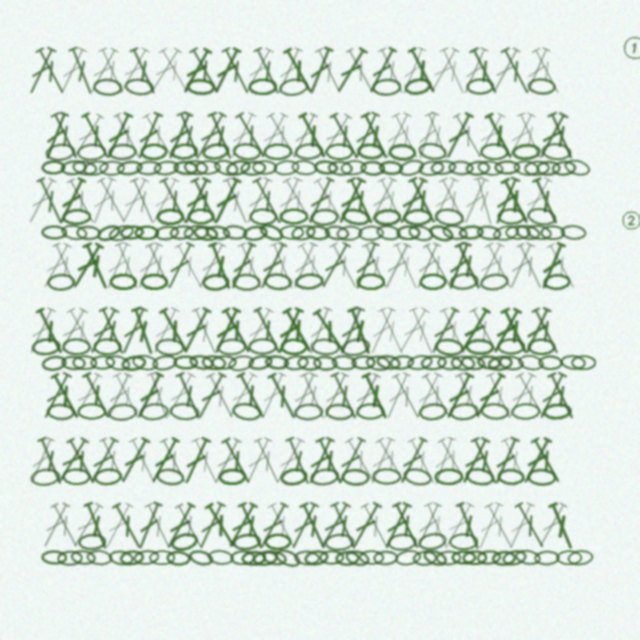chain: (169, 530, 200, 553), (273, 546, 302, 570), (340, 206, 371, 228), (340, 336, 371, 358), (402, 466, 433, 488), (417, 141, 448, 162), (526, 206, 557, 227), (231, 401, 262, 422), (464, 466, 495, 487), (417, 531, 448, 552), (257, 221, 285, 244), (107, 222, 136, 244), (403, 76, 433, 97), (201, 141, 231, 162), (279, 466, 309, 487), (278, 77, 309, 97), (45, 142, 76, 162), (479, 272, 510, 292), (30, 467, 61, 487), (309, 467, 340, 487), (95, 222, 123, 244), (427, 222, 455, 244), (421, 547, 449, 569), (397, 157, 426, 178), (124, 77, 154, 97), (434, 207, 464, 227), (434, 337, 464, 357), (155, 467, 185, 487), (232, 532, 262, 552), (541, 142, 572, 161), (169, 402, 200, 421), (212, 157, 240, 178), (224, 157, 252, 178), (563, 157, 591, 178), (232, 142, 262, 161), (294, 142, 324, 161), (263, 272, 293, 291), (294, 272, 324, 291), (449, 272, 479, 291), (31, 337, 61, 356), (139, 402, 169, 421), (418, 402, 448, 421), (449, 402, 479, 421), (480, 402, 510, 421), (542, 402, 572, 421), (93, 467, 123, 486), (82, 158, 110, 178), (492, 223, 520, 243), (227, 353, 255, 373), (187, 548, 215, 568), (107, 403, 138, 421), (324, 533, 355, 551), (527, 77, 556, 96), (170, 142, 199, 161), (356, 142, 385, 161), (511, 143, 541, 161), (407, 223, 434, 243), (310, 338, 340, 356), (104, 353, 131, 373), (387, 533, 417, 551), (261, 548, 288, 568), (344, 548, 371, 568), (60, 223, 88, 242), (441, 223, 469, 242), (525, 223, 553, 242), (131, 353, 159, 372), (406, 353, 434, 372), (517, 353, 545, 372), (394, 548, 422, 567), (514, 548, 542, 567), (93, 78, 122, 96), (186, 78, 215, 96), (372, 78, 401, 96), (77, 143, 106, 161), (108, 143, 137, 161), (62, 208, 91, 226), (310, 208, 339, 226), (403, 208, 432, 226), (232, 273, 261, 291), (155, 338, 184, 356), (217, 338, 246, 356), (465, 338, 494, 356), (46, 403, 75, 421), (294, 403, 323, 421), (325, 403, 354, 421), (341, 468, 370, 486), (527, 468, 556, 486), (290, 223, 317, 242), (375, 223, 402, 242), (514, 223, 541, 242), (151, 353, 178, 372), (188, 353, 215, 372), (247, 353, 274, 372), (375, 353, 402, 372), (303, 548, 330, 567), (501, 548, 528, 567), (388, 143, 416, 161), (373, 208, 401, 226), (47, 273, 75, 291), (202, 273, 230, 291), (543, 273, 571, 291), (497, 468, 525, 486), (78, 533, 106, 551), (248, 78, 277, 95), (263, 143, 292, 160), (325, 143, 354, 160), (480, 143, 509, 160), (279, 208, 308, 225), (356, 273, 385, 290), (62, 338, 91, 355), (93, 338, 122, 355), (248, 338, 277, 355), (527, 338, 556, 355), (77, 403, 106, 420), (356, 403, 385, 420), (511, 403, 540, 420), (62, 468, 91, 485), (372, 468, 401, 485), (434, 468, 463, 485), (449, 533, 478, 550), (71, 159, 98, 177), (116, 159, 143, 177), (153, 159, 180, 177), (418, 159, 445, 177), (477, 159, 504, 177), (513, 159, 540, 177), (192, 224, 219, 242), (120, 354, 147, 372), (466, 78, 494, 95), (140, 143, 168, 160), (156, 208, 184, 225), (187, 208, 215, 225), (249, 208, 277, 225), (497, 208, 525, 225), (109, 273, 137, 290), (140, 273, 168, 290), (419, 273, 447, 290), (280, 338, 308, 355), (497, 338, 525, 355), (218, 468, 246, 485), (264, 533, 292, 550), (154, 224, 180, 242), (205, 224, 231, 242), (242, 224, 268, 242), (324, 224, 350, 242), (476, 224, 502, 242), (41, 354, 67, 372), (365, 354, 391, 372), (460, 354, 486, 372), (487, 354, 513, 372), (498, 354, 524, 372), (108, 549, 134, 567), (252, 549, 278, 567), (60, 159, 87, 176), (273, 159, 300, 176), (291, 159, 318, 176), (340, 159, 367, 176), (430, 159, 457, 176), (560, 224, 587, 241), (420, 354, 447, 371), (86, 549, 113, 566), (133, 549, 160, 566), (207, 549, 234, 566), (567, 549, 594, 566), (183, 159, 209, 176), (313, 159, 339, 176), (119, 224, 145, 241), (169, 224, 195, 241), (183, 224, 209, 241), (222, 224, 248, 241), (305, 224, 331, 241), (458, 224, 484, 241), (201, 354, 227, 371), (264, 354, 290, 371), (283, 354, 309, 371), (331, 354, 357, 371), (389, 354, 415, 371), (476, 354, 502, 371), (560, 354, 586, 371), (70, 549, 96, 566), (119, 549, 145, 566), (476, 549, 502, 566), (336, 225, 363, 241), (99, 160, 125, 176), (136, 160, 162, 176), (240, 160, 266, 176), (327, 160, 353, 176), (378, 160, 404, 176), (448, 160, 474, 176), (465, 160, 491, 176), (524, 160, 550, 176), (551, 160, 577, 176), (358, 225, 384, 241), (450, 355, 476, 371), (57, 550, 83, 566), (294, 550, 320, 566), (412, 550, 438, 566), (491, 550, 517, 566), (534, 550, 560, 566), (173, 160, 198, 176), (360, 160, 385, 176), (536, 160, 561, 176), (76, 225, 101, 241), (61, 355, 86, 371), (297, 355, 322, 371), (313, 355, 338, 371), (437, 355, 462, 371), (166, 550, 191, 566), (241, 550, 266, 566), (335, 550, 360, 566), (373, 550, 398, 566), (436, 550, 461, 566), (195, 160, 221, 175), (494, 160, 520, 175), (41, 225, 67, 240), (505, 225, 531, 240), (211, 355, 237, 370), (41, 550, 67, 565), (149, 550, 175, 565), (556, 550, 582, 565), (41, 160, 66, 175), (252, 160, 277, 175), (134, 225, 159, 240), (279, 225, 304, 240), (396, 225, 421, 240), (540, 225, 565, 240), (72, 355, 97, 370), (90, 355, 115, 370), (173, 355, 198, 370), (351, 355, 376, 370), (538, 355, 563, 370), (571, 355, 596, 370), (230, 550, 255, 565), (319, 550, 344, 565), (359, 550, 384, 565), (451, 550, 476, 565), (462, 550, 487, 565)
double: (145, 45, 185, 96), (155, 45, 195, 96), (331, 45, 371, 96), (139, 110, 179, 161), (310, 175, 350, 226), (67, 240, 107, 291), (393, 305, 433, 356), (52, 435, 92, 486), (341, 435, 381, 486), (201, 500, 241, 551), (67, 111, 107, 161), (315, 111, 355, 161), (310, 306, 350, 356), (114, 45, 153, 96), (186, 45, 225, 96), (424, 45, 463, 96), (191, 110, 230, 161), (232, 110, 271, 161), (263, 110, 302, 161), (449, 110, 488, 161), (93, 175, 132, 226), (279, 175, 318, 226), (517, 175, 556, 226), (294, 240, 333, 291), (315, 240, 354, 291), (279, 305, 318, 356), (455, 305, 494, 356), (160, 370, 199, 421), (222, 370, 261, 421), (418, 370, 457, 421), (470, 370, 509, 421), (372, 435, 411, 486), (434, 435, 473, 486), (527, 435, 566, 486), (67, 500, 106, 551), (222, 500, 261, 551), (315, 500, 354, 551), (346, 500, 385, 551), (439, 500, 478, 551), (511, 500, 550, 551), (532, 500, 571, 551), (32, 45, 70, 97), (84, 45, 122, 97), (177, 45, 215, 97), (239, 45, 277, 97), (497, 45, 535, 97), (528, 45, 566, 97), (254, 110, 292, 162), (326, 110, 364, 162), (471, 110, 509, 162), (533, 110, 571, 162), (22, 175, 60, 227), (63, 175, 101, 227), (115, 175, 153, 227), (156, 175, 194, 227), (249, 175, 287, 227), (497, 175, 535, 227), (37, 240, 75, 292), (171, 240, 209, 292), (543, 240, 581, 292), (53, 305, 91, 357), (63, 305, 101, 357), (84, 305, 122, 357), (177, 305, 215, 357), (239, 305, 277, 357), (425, 305, 463, 357), (487, 305, 525, 357), (37, 370, 75, 422), (47, 370, 85, 422), (68, 370, 106, 422), (192, 370, 230, 422), (202, 370, 240, 422), (264, 370, 302, 422), (388, 370, 426, 422), (502, 370, 540, 422), (63, 435, 101, 487), (84, 435, 122, 487), (218, 435, 256, 487), (270, 435, 308, 487), (99, 500, 137, 552), (109, 500, 147, 552), (161, 500, 199, 552), (171, 500, 209, 552), (254, 500, 292, 552), (264, 500, 302, 552), (357, 500, 395, 552), (481, 500, 519, 552), (280, 45, 318, 96), (342, 45, 380, 96), (419, 240, 457, 291), (156, 305, 194, 356), (218, 305, 256, 356), (512, 370, 550, 421), (115, 435, 153, 486), (208, 45, 245, 97), (218, 45, 255, 97), (311, 45, 348, 97), (466, 45, 503, 97), (47, 110, 84, 162), (357, 110, 394, 162), (388, 110, 425, 162), (440, 110, 477, 162), (481, 110, 518, 162), (502, 110, 539, 162), (53, 175, 90, 227), (146, 175, 183, 227), (187, 175, 224, 227), (208, 175, 245, 227), (332, 175, 369, 227), (394, 175, 431, 227), (435, 175, 472, 227), (161, 240, 198, 292), (254, 240, 291, 292), (378, 240, 415, 292), (471, 240, 508, 292), (481, 240, 518, 292), (32, 305, 69, 357), (497, 305, 534, 357), (528, 305, 565, 357), (109, 370, 146, 422), (347, 370, 384, 422), (409, 370, 446, 422), (440, 370, 477, 422), (533, 370, 570, 422), (125, 435, 162, 487), (156, 435, 193, 487), (208, 435, 245, 487), (332, 435, 369, 487), (394, 435, 431, 487), (404, 435, 441, 487), (456, 435, 493, 487), (497, 435, 534, 487), (285, 500, 322, 552), (378, 500, 415, 552), (363, 45, 400, 96), (404, 45, 441, 96), (487, 45, 524, 96), (78, 110, 115, 161), (295, 110, 332, 161), (192, 240, 229, 291), (326, 240, 363, 291), (466, 305, 503, 356), (233, 370, 270, 421), (146, 435, 183, 486), (518, 435, 555, 486), (37, 500, 74, 551), (47, 500, 84, 551), (23, 45, 59, 97), (54, 45, 90, 97), (126, 45, 162, 97), (250, 45, 286, 97), (374, 45, 410, 97), (100, 110, 136, 162), (224, 110, 260, 162), (379, 110, 415, 162), (33, 175, 69, 227), (178, 175, 214, 227), (240, 175, 276, 227), (302, 175, 338, 227), (343, 175, 379, 227), (374, 175, 410, 227), (426, 175, 462, 227), (141, 240, 177, 292), (358, 240, 394, 292), (451, 240, 487, 292), (23, 305, 59, 357), (147, 305, 183, 357), (271, 305, 307, 357), (364, 305, 400, 357), (374, 305, 410, 357), (436, 305, 472, 357), (519, 305, 555, 357), (100, 370, 136, 422), (317, 370, 353, 422), (327, 370, 363, 422), (358, 370, 394, 422), (451, 370, 487, 422), (482, 370, 518, 422), (544, 370, 580, 422), (178, 435, 214, 487), (188, 435, 224, 487), (240, 435, 276, 487), (250, 435, 286, 487), (302, 435, 338, 487), (312, 435, 348, 487), (467, 435, 503, 487), (141, 500, 177, 552), (193, 500, 229, 552), (296, 500, 332, 552), (410, 500, 446, 552), (110, 110, 146, 161), (364, 175, 400, 226), (405, 175, 441, 226), (250, 305, 286, 356), (79, 370, 115, 421), (131, 370, 167, 421), (95, 435, 131, 486), (389, 500, 425, 551), (95, 45, 130, 97), (271, 45, 306, 97), (436, 45, 471, 97), (457, 45, 492, 97), (519, 45, 554, 97), (131, 110, 166, 162), (162, 110, 197, 162), (286, 110, 321, 162), (348, 110, 383, 162), (513, 110, 548, 162), (544, 110, 579, 162), (126, 175, 161, 227), (219, 175, 254, 227), (271, 175, 306, 227), (529, 175, 564, 227), (79, 240, 114, 292), (100, 240, 135, 292), (131, 240, 166, 292), (234, 240, 269, 292), (389, 240, 424, 292), (410, 240, 445, 292), (503, 240, 538, 292), (513, 240, 548, 292), (95, 305, 130, 357), (116, 305, 151, 357), (188, 305, 223, 357), (209, 305, 244, 357), (405, 305, 440, 357), (172, 370, 207, 422), (255, 370, 290, 422), (286, 370, 321, 422), (296, 370, 331, 422), (364, 435, 399, 487), (488, 435, 523, 487), (234, 500, 269, 552), (327, 500, 362, 552), (420, 500, 455, 552), (472, 500, 507, 552), (503, 500, 538, 552), (65, 45, 99, 97), (303, 45, 337, 97), (396, 45, 430, 97), (204, 110, 238, 162), (421, 110, 455, 162), (86, 175, 120, 227), (458, 175, 492, 227), (489, 175, 523, 227), (49, 240, 83, 292), (225, 240, 259, 292), (266, 240, 300, 292), (287, 240, 321, 292), (349, 240, 383, 292), (535, 240, 569, 292), (334, 305, 368, 357), (380, 370, 414, 422), (24, 435, 58, 487), (34, 435, 68, 487), (282, 435, 316, 487), (132, 500, 166, 552), (452, 500, 486, 552), (545, 500, 579, 552), (39, 110, 72, 162), (173, 110, 206, 162), (111, 240, 144, 292), (442, 240, 475, 292), (303, 305, 336, 357), (344, 305, 377, 357), (80, 500, 113, 552), (205, 240, 237, 292), (143, 370, 175, 422), (428, 435, 460, 487), (412, 110, 443, 162), (128, 305, 159, 357), (470, 175, 499, 227)
noise: (620, 33, 640, 62), (620, 209, 640, 232)
